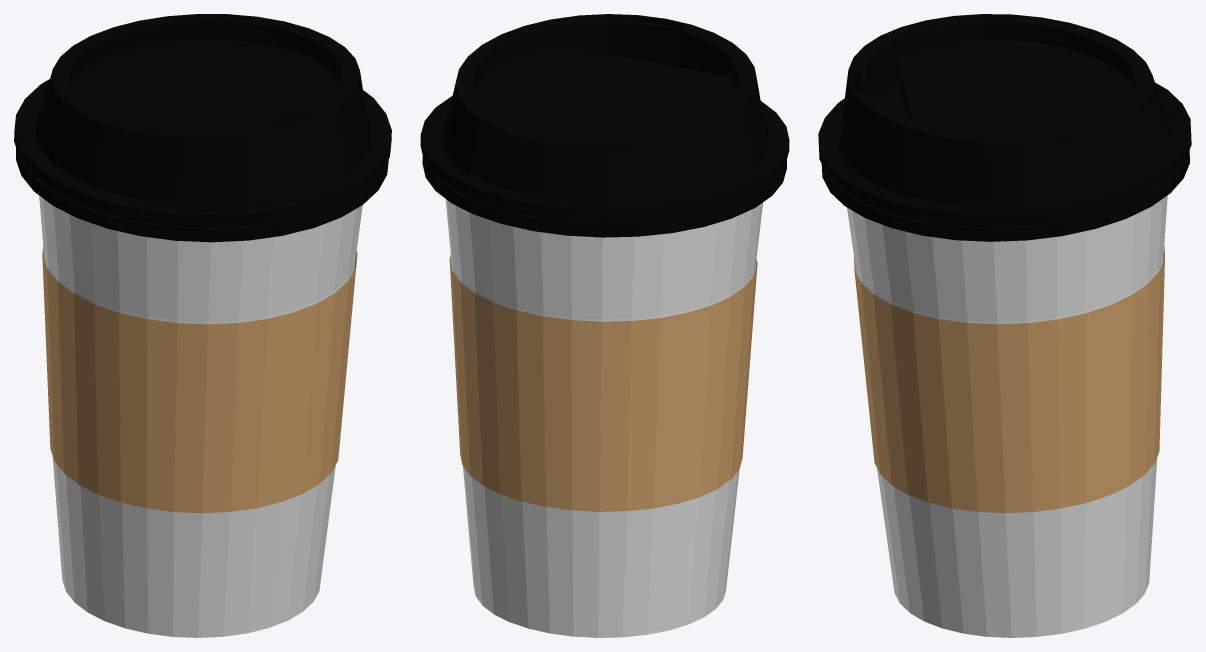
The model's file is coffee_low.fbx.
3 views of the same model, side by side, from view 1: azimuth 30°, elevation 25°; view 2: azimuth 150°, elevation 25°; view 3: azimuth 270°, elevation 25° (orthographic). The views are drawn at different scales.
Visible parts, largest first — view 1: Circle.002, Circle, Circle.001; view 2: Circle.002, Circle, Circle.001; view 3: Circle.002, Circle, Circle.001.
Part boxes in pixels (x1,y1,x2,y2): Circle.002: (14, 14, 391, 242); Circle: (39, 195, 362, 637); Circle.001: (42, 246, 357, 513); Circle.002: (420, 14, 789, 237); Circle: (445, 199, 762, 637); Circle.001: (449, 255, 757, 511); Circle.002: (818, 14, 1191, 241); Circle: (847, 195, 1167, 637); Circle.001: (853, 245, 1164, 512).
Bounding box in the file's own units: 316 × 480 × 316.
